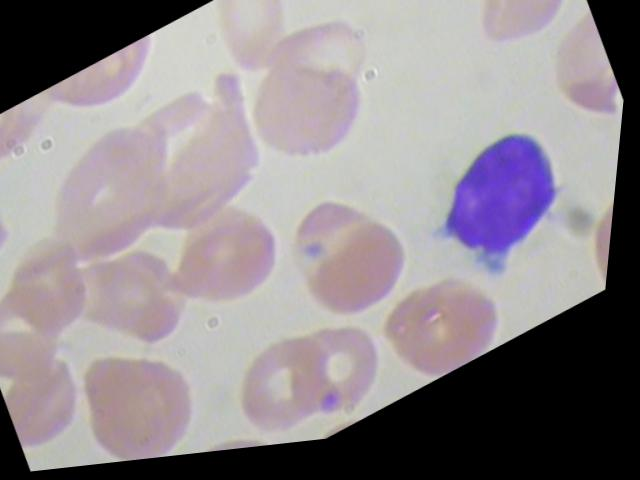Red Blood Cells: (271, 172, 437, 353), (229, 33, 400, 203), (140, 182, 307, 348), (54, 320, 231, 471), (373, 261, 524, 409), (279, 311, 414, 448), (229, 327, 364, 456), (520, 18, 633, 165), (0, 345, 108, 465), (199, 0, 321, 98), (462, 0, 600, 83), (0, 141, 41, 282), (411, 0, 565, 33), (576, 194, 620, 308)
White Blood Cells: (399, 108, 605, 311)
